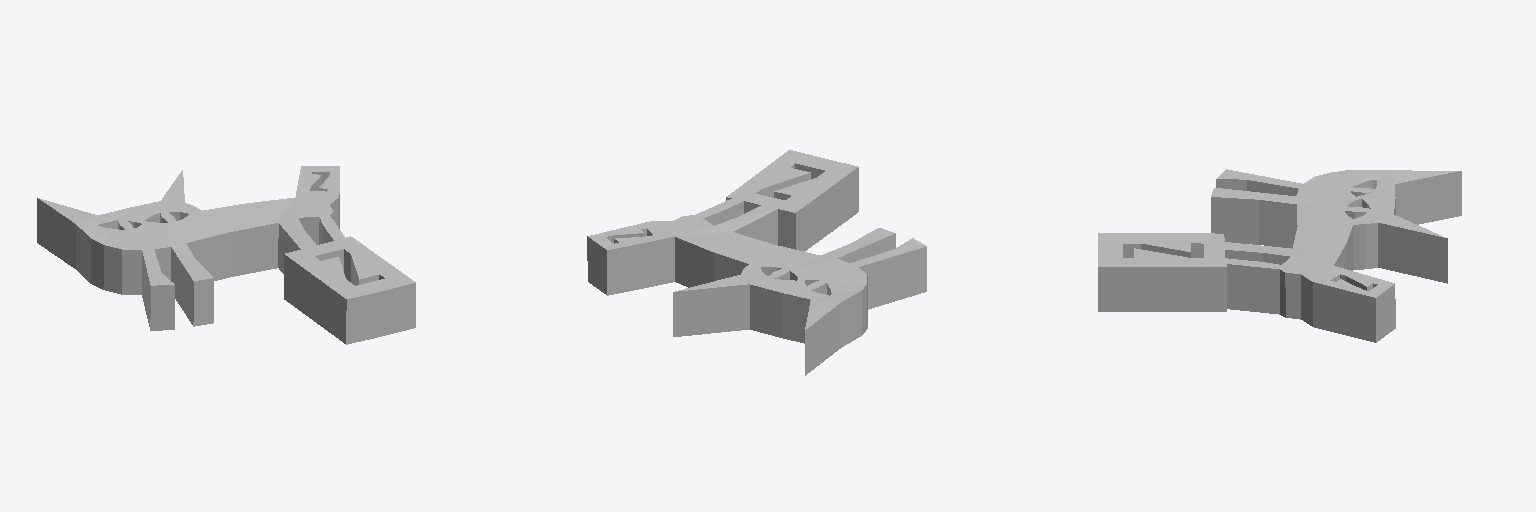
The model's file is brakeza.obj.
The picture shows the model from 3 angles: view 1: azimuth 30°, elevation 25°; view 2: azimuth 150°, elevation 25°; view 3: azimuth 270°, elevation 25°; orthographic projection.
Visible parts, largest first — view 1: Plane; view 2: Plane; view 3: Plane.
Part boxes in pixels (x1,y1,x2,y2): Plane: (37, 166, 415, 344); Plane: (587, 150, 926, 375); Plane: (1098, 169, 1461, 342).
Size of the model in its own units: 4.96 by 0.8505 by 5.9.